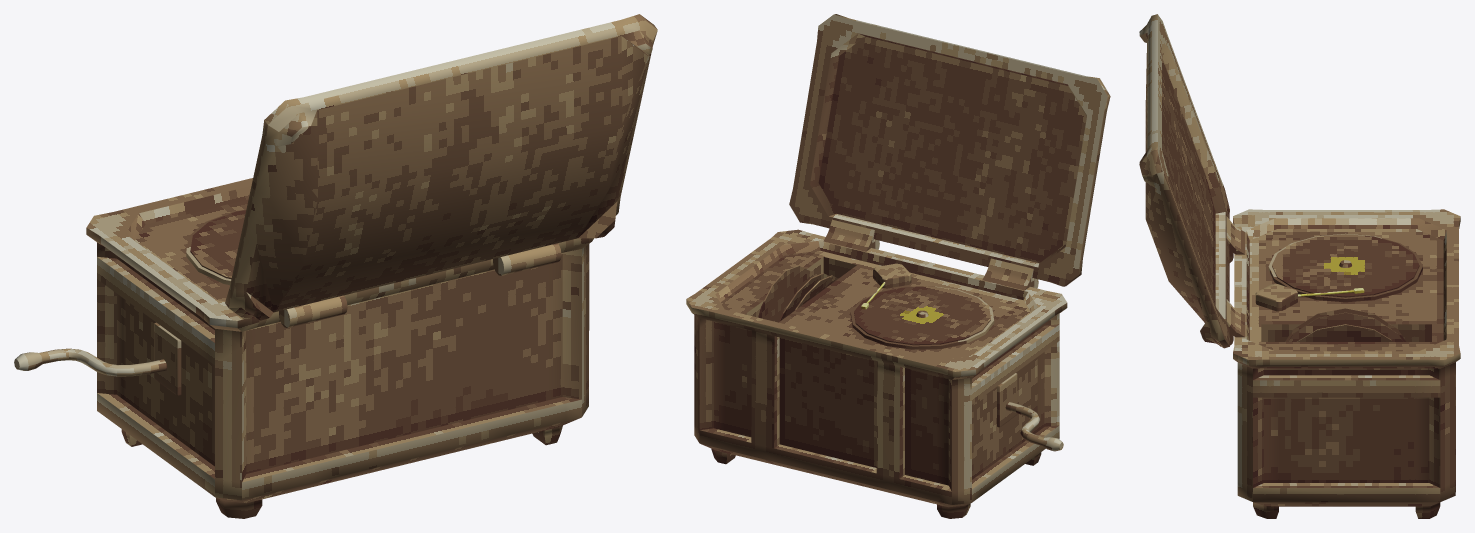
File: music_box.glb
3 renders of one model, left to right at view 1: azimuth 30°, elevation 25°; view 2: azimuth 150°, elevation 25°; view 3: azimuth 270°, elevation 25°, orthographic. The views are drawn at different scales.
Visible parts, largest first — view 1: mesh; view 2: mesh; view 3: mesh.
Boxes of the visible parts, x1=… form: mesh: x1=14, y1=14, x2=657, y2=518; mesh: x1=686, y1=14, x2=1110, y2=518; mesh: x1=1139, y1=14, x2=1460, y2=518.
Size of the model in its own units: 0.1075 by 0.1 by 0.0782.
Materials: 1 (1 with a texture image).
